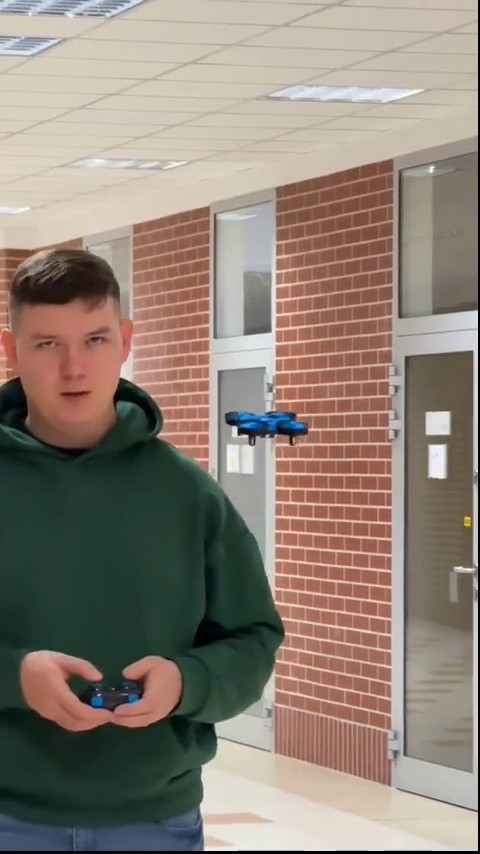drone: (224, 406, 305, 440)
no vest: (0, 246, 285, 833)
